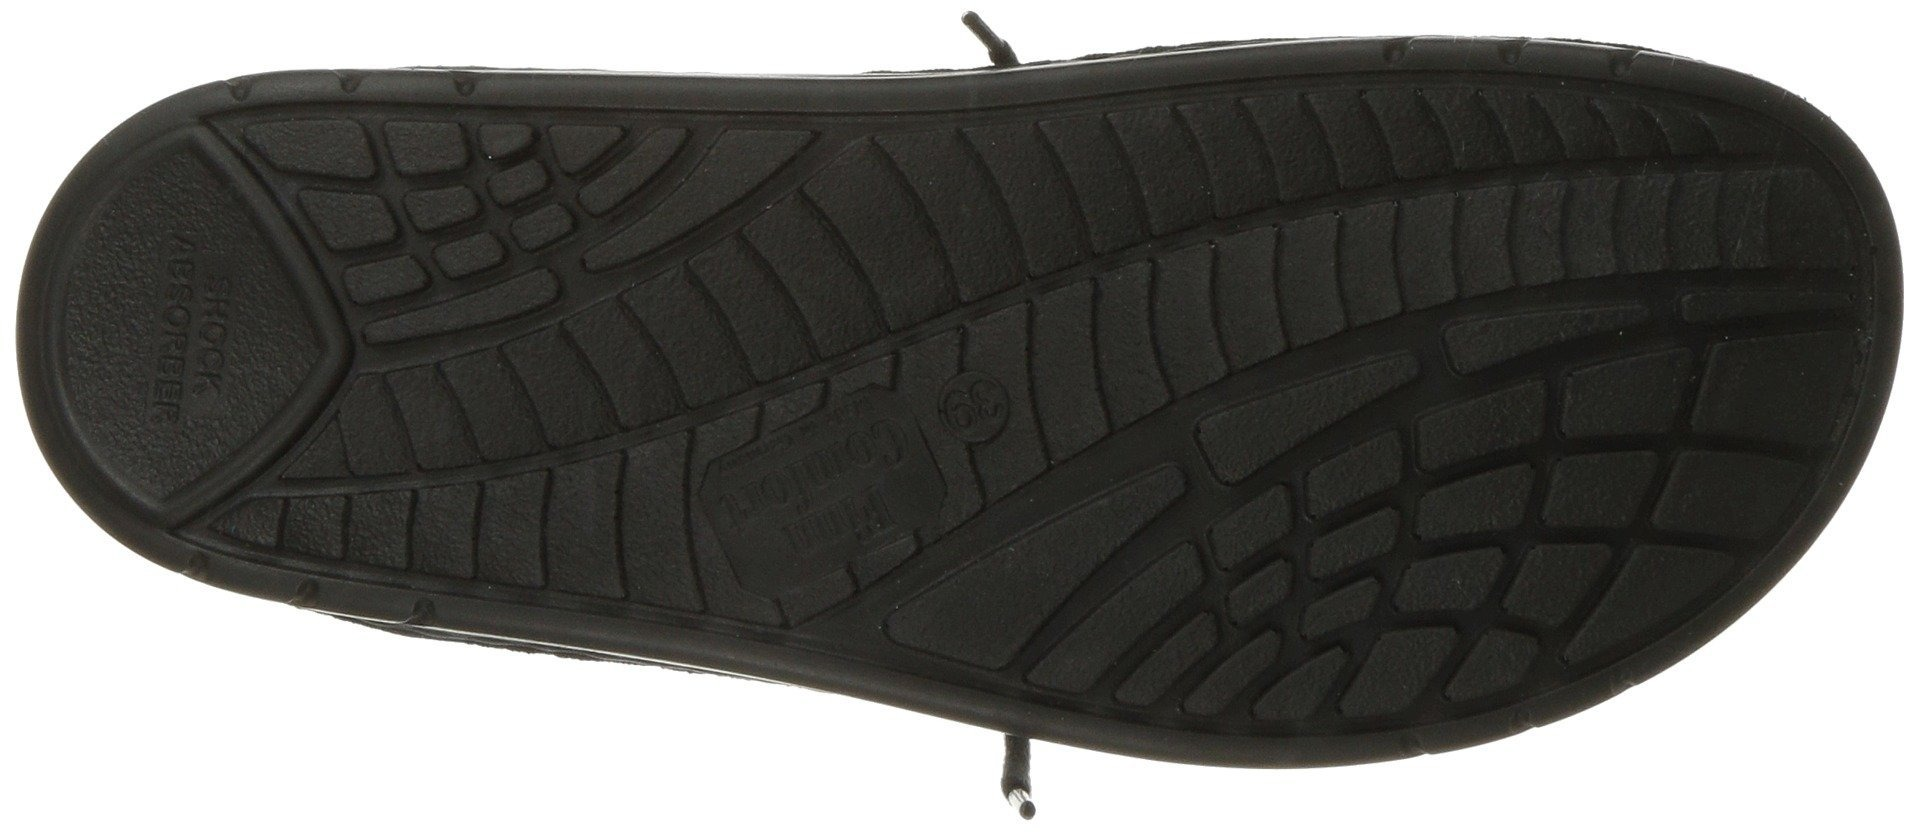chevron: (274, 264, 387, 410)
circle: (139, 270, 248, 394), (927, 341, 1030, 456)
exclude: (946, 715, 1098, 831)
line: (927, 341, 1030, 456)
quad: (373, 335, 633, 613), (991, 478, 1222, 724), (1493, 366, 1729, 589), (1257, 91, 1476, 317), (1245, 477, 1461, 688), (980, 135, 1178, 341), (316, 116, 529, 302), (729, 165, 912, 365), (1504, 96, 1665, 272)
text: (139, 270, 248, 394), (785, 438, 900, 549), (927, 341, 1030, 456)
triangle: (1433, 283, 1662, 394), (541, 113, 631, 191)
